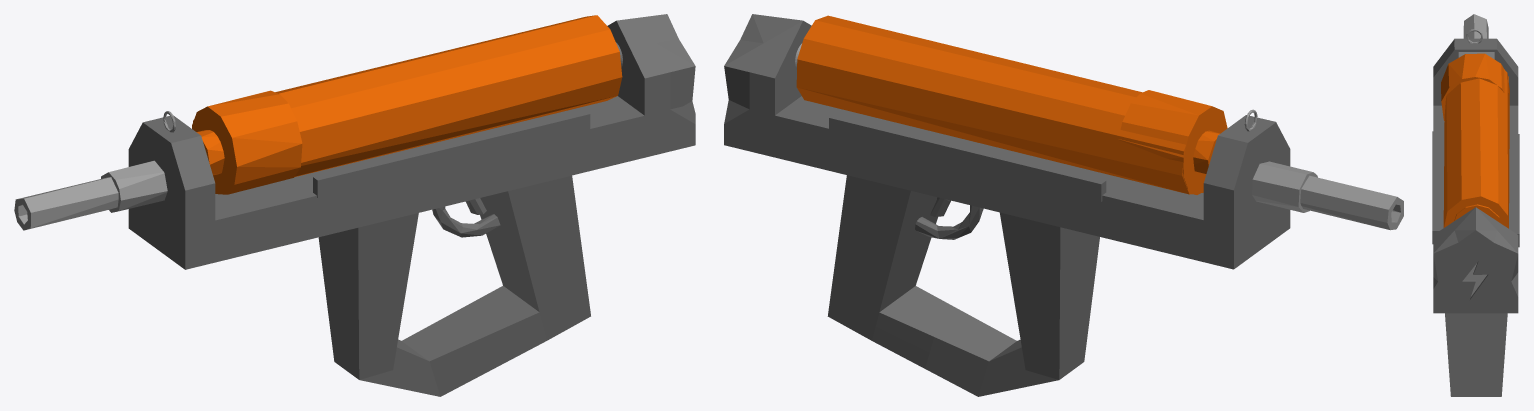
File: gun_orange.fbx
3 views of the same model, side by side, from view 1: azimuth 30°, elevation 25°; view 2: azimuth 150°, elevation 25°; view 3: azimuth 270°, elevation 25° (orthographic). The views are drawn at different scales.
Visible parts, largest first — view 1: Cube, Pila, Cube.004, Cylinder.001, Cylinder.002, Torus.001; view 2: Cube, Pila, Cube.004, Cylinder.001, Cylinder.002, Torus.001; view 3: Cube, Pila, Cube.004, Cylinder.001, Cube.001, Torus.
Part boxes in pixels (box(x1,y1,x2,y2)): Cube: box(128, 14, 695, 269); Pila: box(192, 15, 622, 194); Cube.004: box(318, 175, 590, 396); Cylinder.001: box(14, 177, 118, 230); Cylinder.002: box(101, 160, 167, 212); Torus.001: box(432, 206, 500, 237); Cube: box(724, 14, 1290, 269); Pila: box(796, 15, 1227, 194); Cube.004: box(827, 175, 1099, 396); Cylinder.001: box(1300, 175, 1403, 230); Cylinder.002: box(1252, 161, 1317, 212); Torus.001: box(915, 205, 983, 239); Cube: box(1432, 38, 1519, 313); Pila: box(1441, 53, 1509, 228); Cube.004: box(1445, 313, 1507, 396); Cylinder.001: box(1463, 14, 1488, 38); Cube.001: box(1458, 52, 1494, 59); Torus: box(1466, 29, 1482, 43).
Bounding box in the file's own units: 135 × 67.78 × 21.1.
